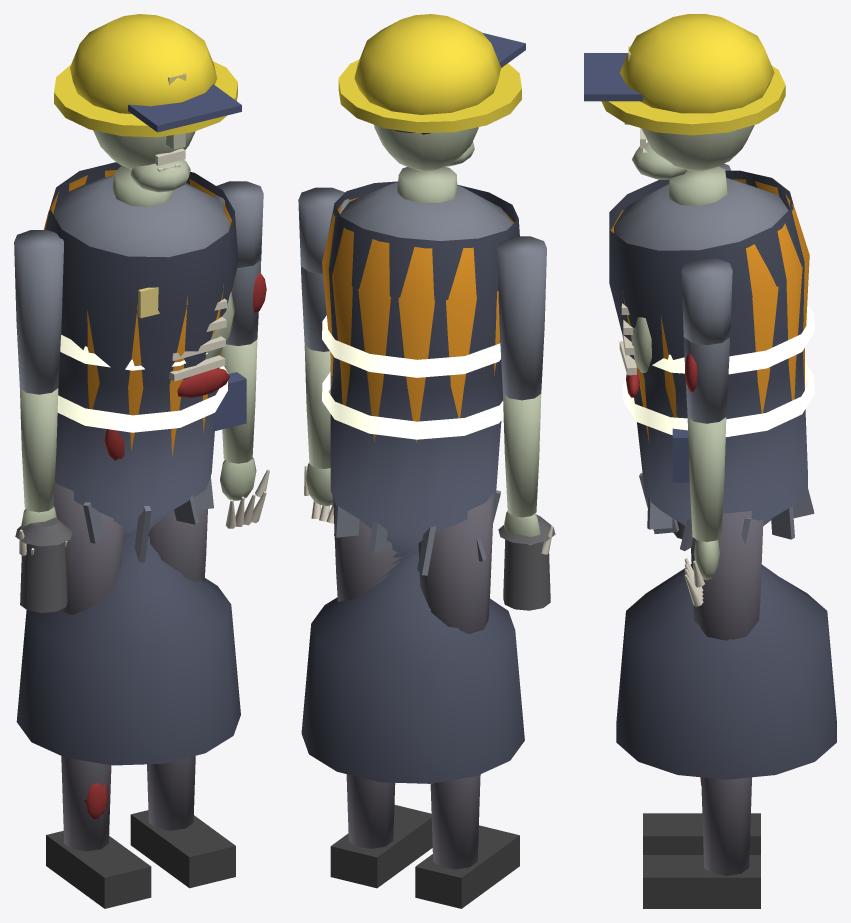
The model's file is zombie-70ef7ba1.glb.
The picture shows the model from 3 angles, left to right: view 1: azimuth 30°, elevation 25°; view 2: azimuth 150°, elevation 25°; view 3: azimuth 270°, elevation 25°; orthographic projection.
Parts seen in each view (by area): view 1: CoatM, HatDome, TorsoM, UpperArmL, ThighL, FootR, FootL, ForearmL, HatBrim, ShinL, ShinR, VestM (+21 smaller); view 2: CoatM, VestM, HatDome, UpperArmL, ThighL, TorsoM, HatBrim, FootL, FootR, ShinL, ForearmL, VestStripe (+14 smaller); view 3: CoatM, HatDome, TorsoM, ThighR, VestM, FootR, ShinR, HatBrim, ForearmR, SleeveTornR, UpperArmR, Head (+12 smaller).
Boxes of the visible parts, x1,y1,x2,y2 form: CoatM: [16, 162, 240, 765]; HatDome: [70, 14, 217, 113]; TorsoM: [53, 175, 229, 257]; UpperArmL: [14, 230, 63, 394]; ThighL: [53, 481, 123, 614]; FootR: [130, 810, 235, 888]; FootL: [46, 831, 151, 908]; ForearmL: [20, 388, 58, 512]; HatBrim: [54, 61, 237, 137]; ShinL: [61, 756, 111, 851]; ShinR: [147, 756, 195, 830]; VestM: [44, 170, 235, 456]; CoatM: [301, 181, 524, 783]; VestM: [322, 197, 513, 442]; HatDome: [354, 14, 501, 114]; UpperArmL: [497, 236, 546, 400]; ThighL: [418, 493, 493, 633]; TorsoM: [340, 182, 512, 240]; HatBrim: [338, 59, 521, 133]; FootL: [415, 825, 519, 908]; FootR: [330, 805, 432, 888]; ShinL: [430, 774, 480, 869]; ForearmL: [503, 394, 541, 517]; VestStripe: [322, 372, 503, 439]; CoatM: [609, 170, 836, 779]; HatDome: [620, 14, 774, 113]; TorsoM: [614, 178, 788, 250]; ThighR: [691, 511, 763, 640]; VestM: [610, 179, 809, 443]; FootR: [643, 855, 760, 908]; ShinR: [701, 777, 751, 875]; HatBrim: [601, 65, 785, 135]; ForearmR: [687, 417, 726, 541]; SleeveTornR: [681, 258, 732, 345]; UpperArmR: [684, 266, 729, 423]; Head: [641, 125, 754, 171].
Size of the model in its own units: 0.5894 by 1.92 by 0.5142.
